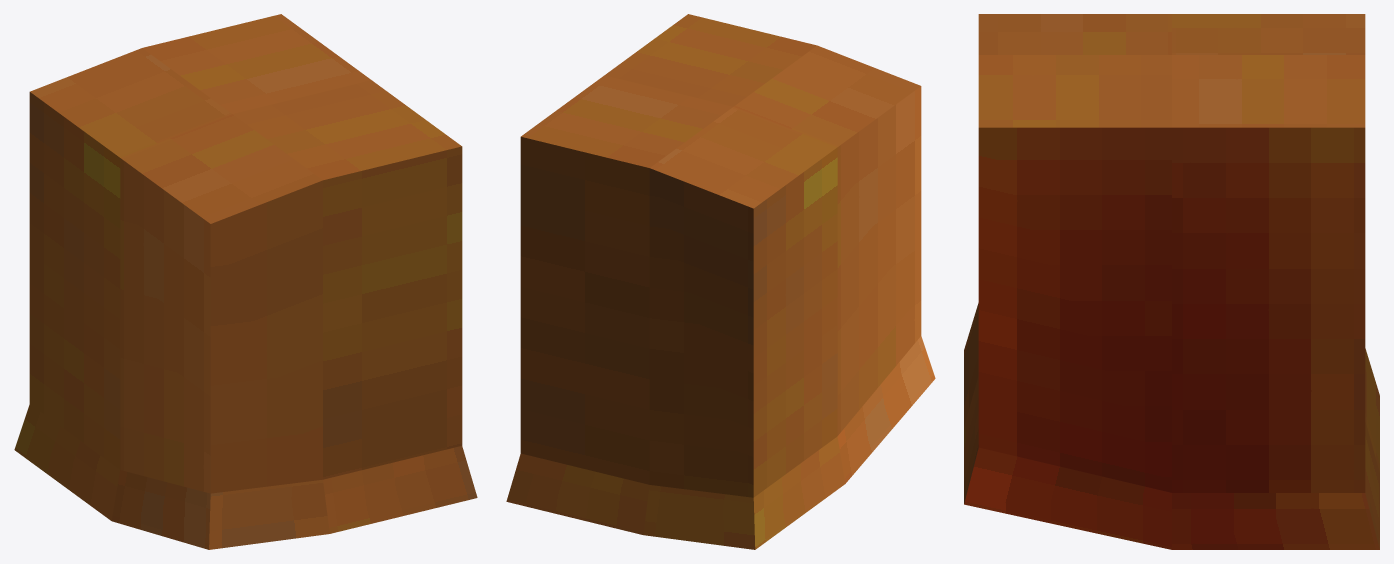
The model's file is CopperPauldronR.glb.
3 renders of one model, left to right at view 1: azimuth 30°, elevation 25°; view 2: azimuth 150°, elevation 25°; view 3: azimuth 270°, elevation 25°, orthographic. The views are drawn at different scales.
Parts seen in each view (by area): view 1: copper chestplate R; view 2: copper chestplate R; view 3: copper chestplate R.
Part boxes in pixels (<box>): copper chestplate R: <box>14,14,477,549</box>; copper chestplate R: <box>506,14,935,549</box>; copper chestplate R: <box>964,14,1379,549</box>.
Size of the model in its own units: 0.1972 by 0.2744 by 0.2475.
Materials: 1 (1 with a texture image).
